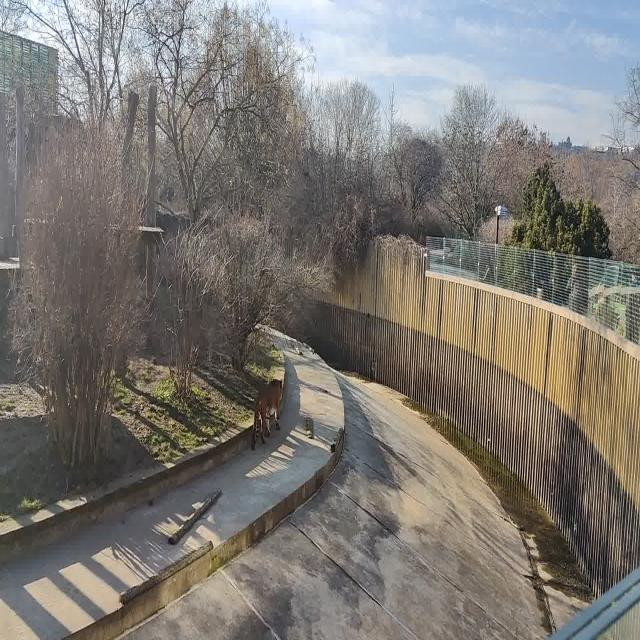tiger: (250, 379, 282, 451)
